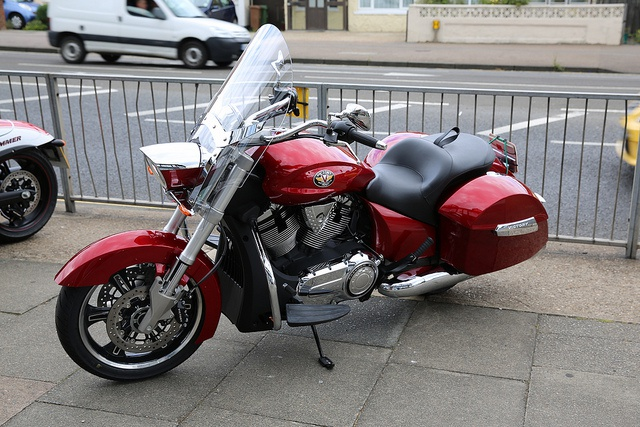non-vehicle: (54, 24, 548, 385), (0, 117, 70, 244)
